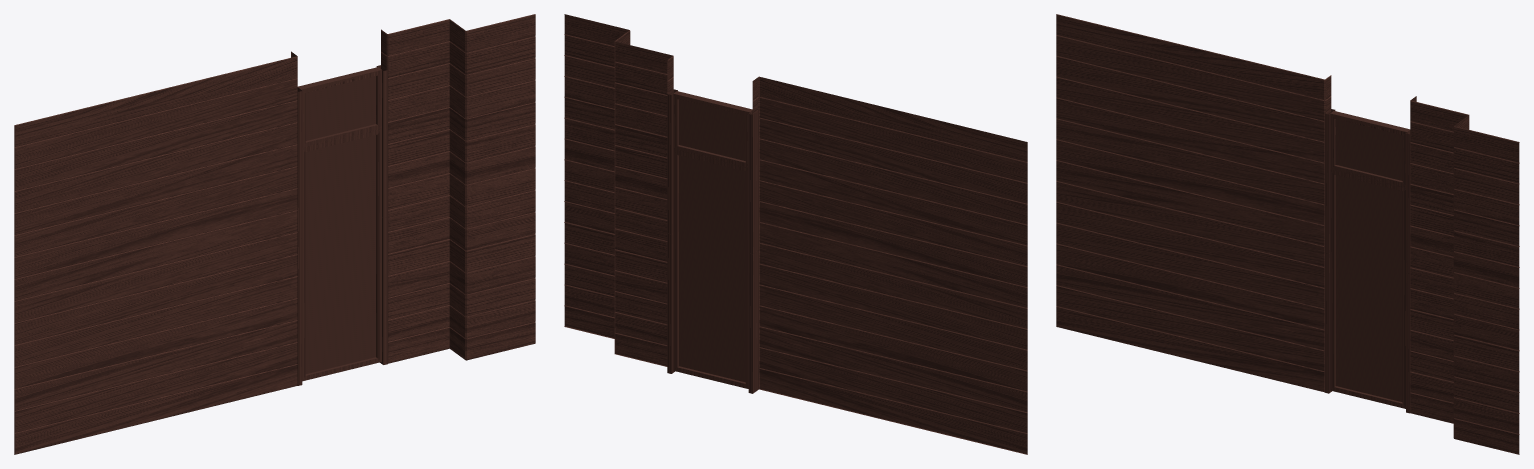
File: Wall_Door.FBX
The picture shows the model from 3 angles, left to right: view 1: azimuth 30°, elevation 25°; view 2: azimuth 150°, elevation 25°; view 3: azimuth 330°, elevation 25°; orthographic projection. The views are drawn at different scales.
Visible parts, largest first — view 1: Wall_Door; view 2: Wall_Door; view 3: Wall_Door.
Part boxes in pixels (bbox=[...]): Wall_Door: bbox=[14, 14, 535, 454]; Wall_Door: bbox=[564, 14, 1027, 454]; Wall_Door: bbox=[1056, 14, 1519, 454].
Bounding box in the file's own units: 177 × 110 × 13.98.
1 material, 1 textured.
